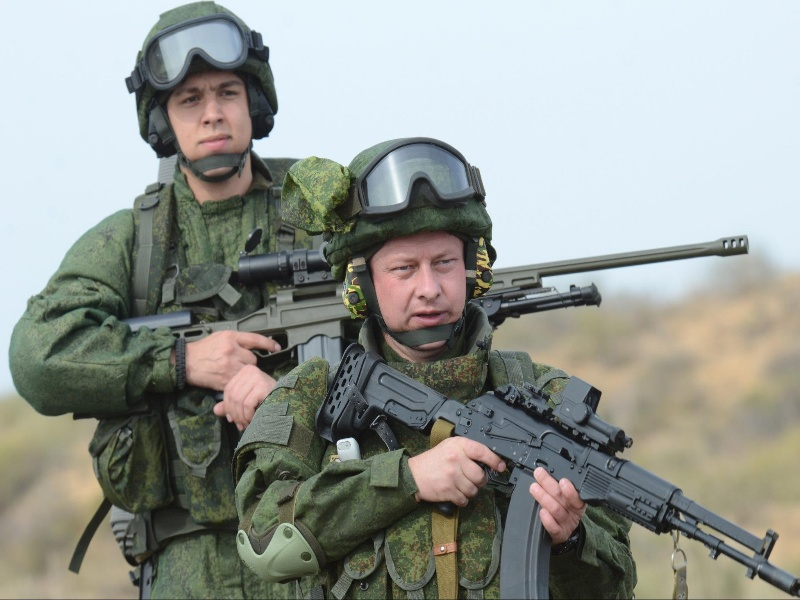person: (233, 138, 641, 600), (9, 1, 323, 600)
weapon: (316, 343, 800, 598), (121, 235, 750, 367)
